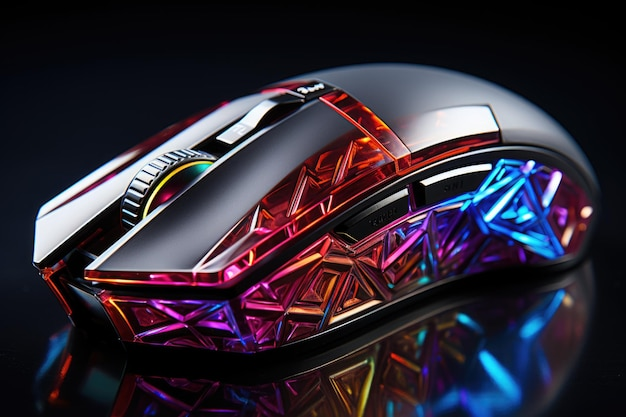mouse: (34, 61, 594, 367)
